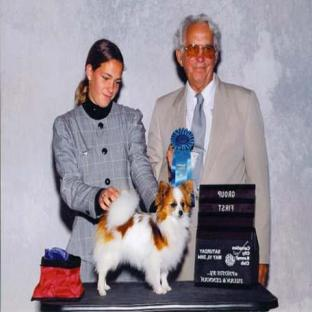Animal: (94, 180, 194, 295)
Human: (53, 14, 270, 284)
